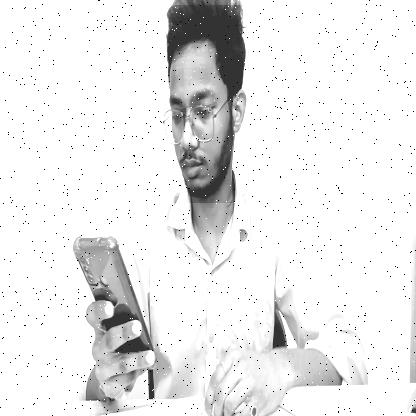Distracted: (158, 5, 246, 203)
